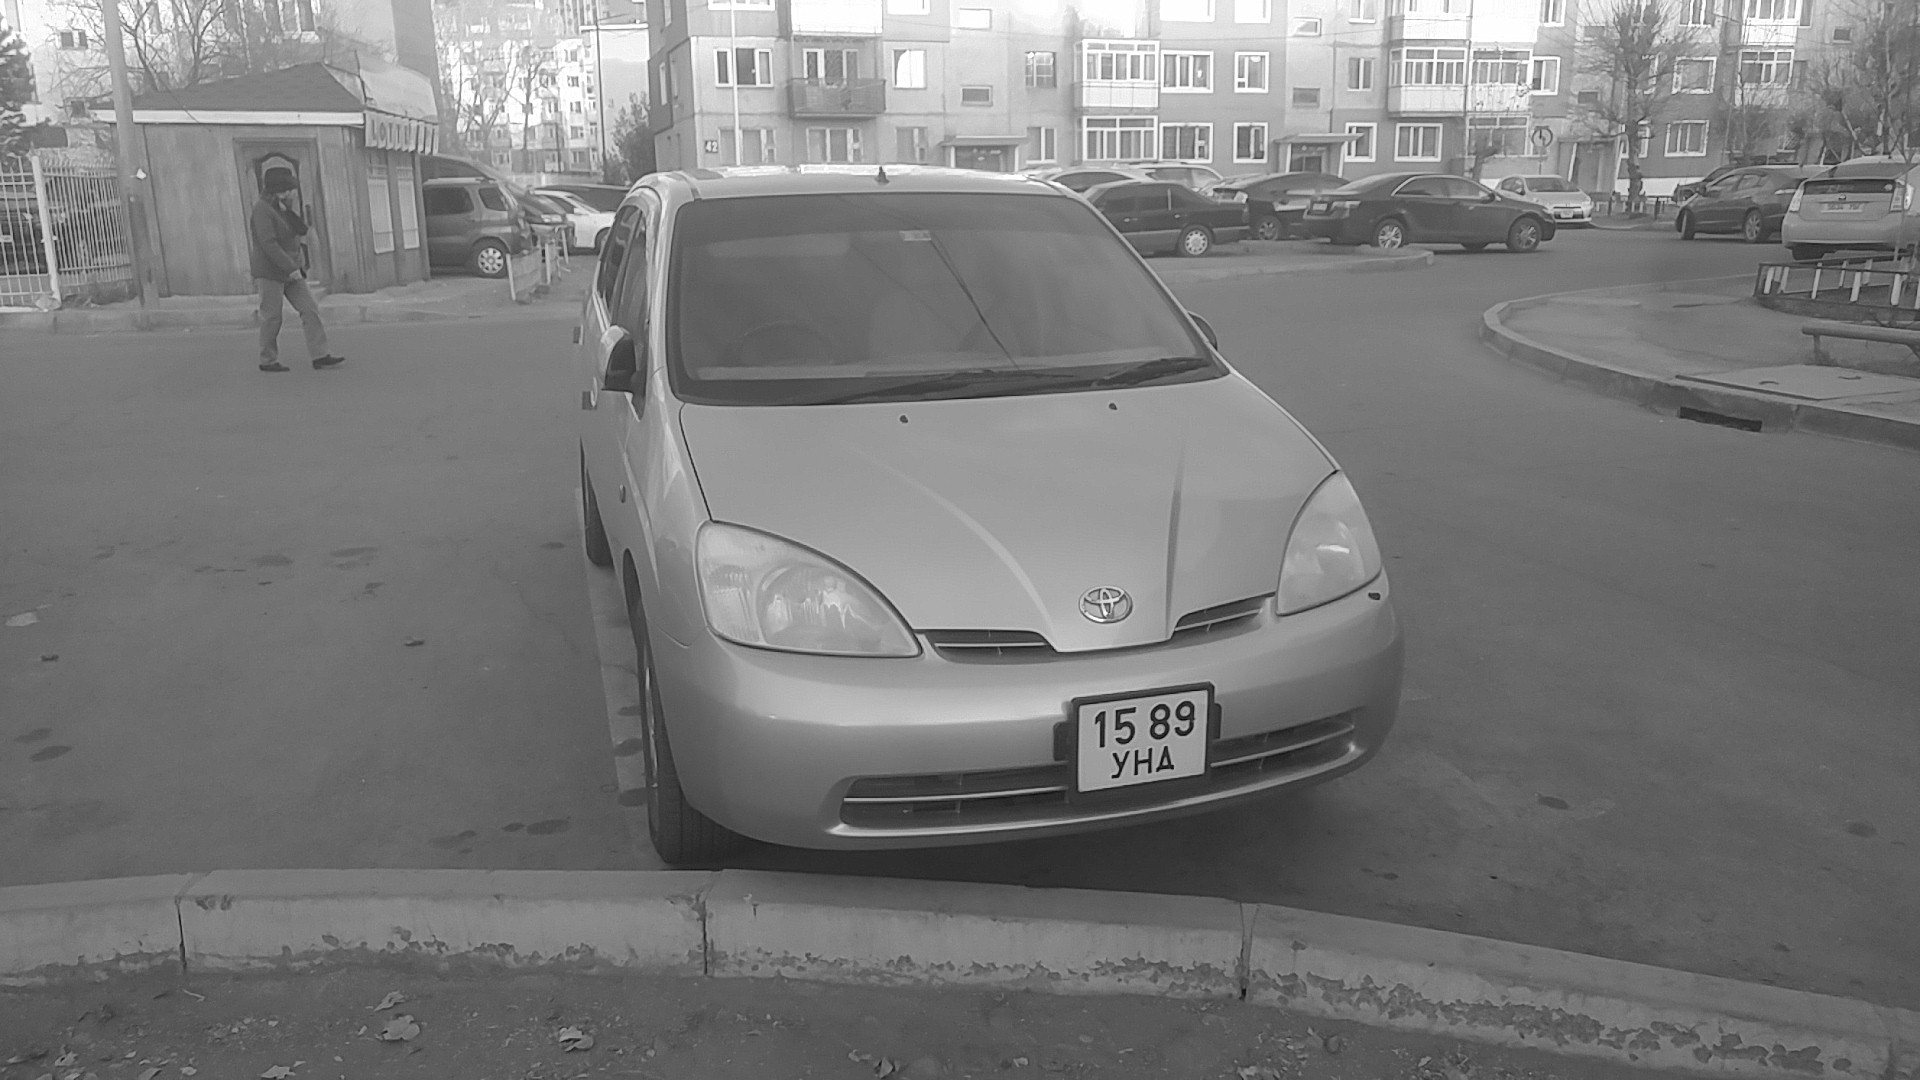1: (1094, 709, 1108, 749)
5: (1114, 706, 1137, 746)
8: (1149, 703, 1171, 740)
9: (1174, 700, 1195, 737)
d: (1155, 745, 1176, 773)
n: (1133, 747, 1153, 776)
plate: (1066, 679, 1215, 800)
u: (1111, 750, 1130, 779)
